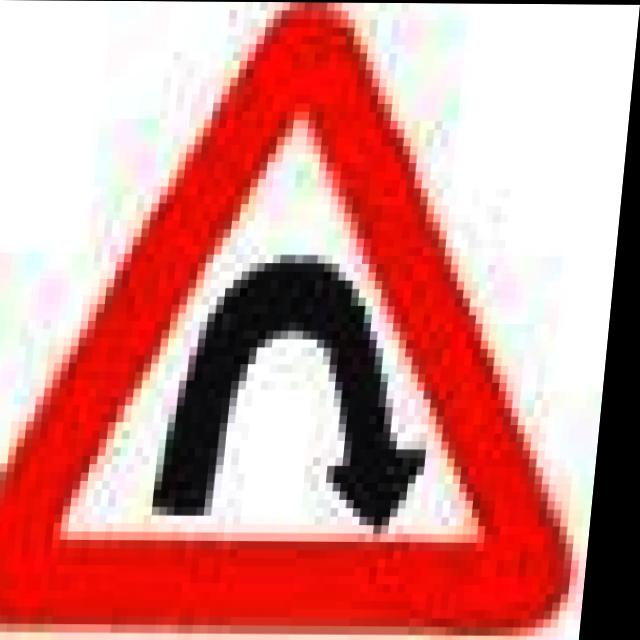RIGHT_HAIR_PIN_BEND: (0, 0, 625, 627)
